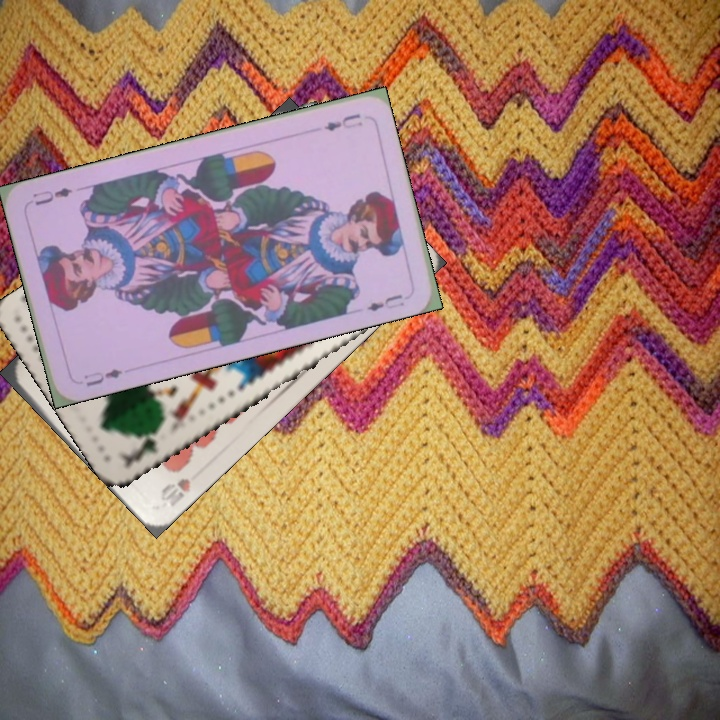EU: (320, 109, 366, 134), (80, 364, 125, 389)
GK: (118, 426, 164, 470)
H10: (156, 474, 193, 510)
